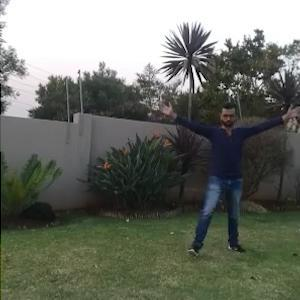takeoff: (158, 98, 299, 251)
